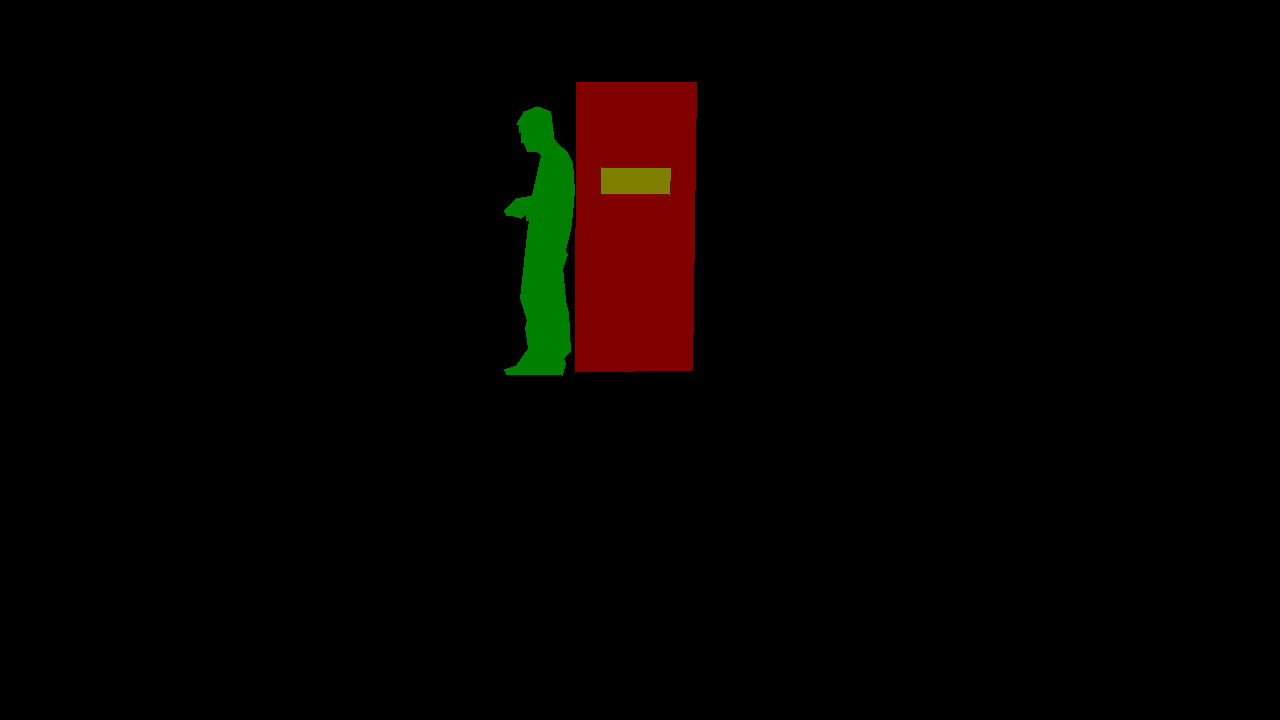door: (575, 82, 696, 372)
person: (504, 106, 574, 375)
sign: (601, 167, 670, 194)
